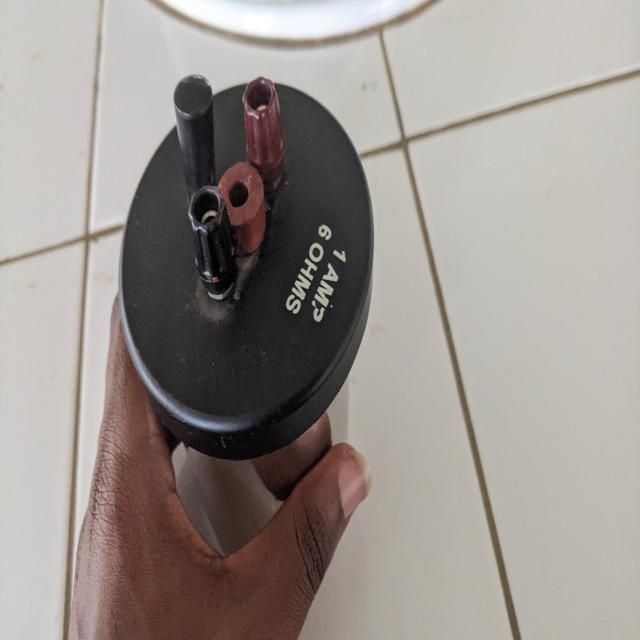Joule-s Calorimeter: (110, 76, 382, 439)
